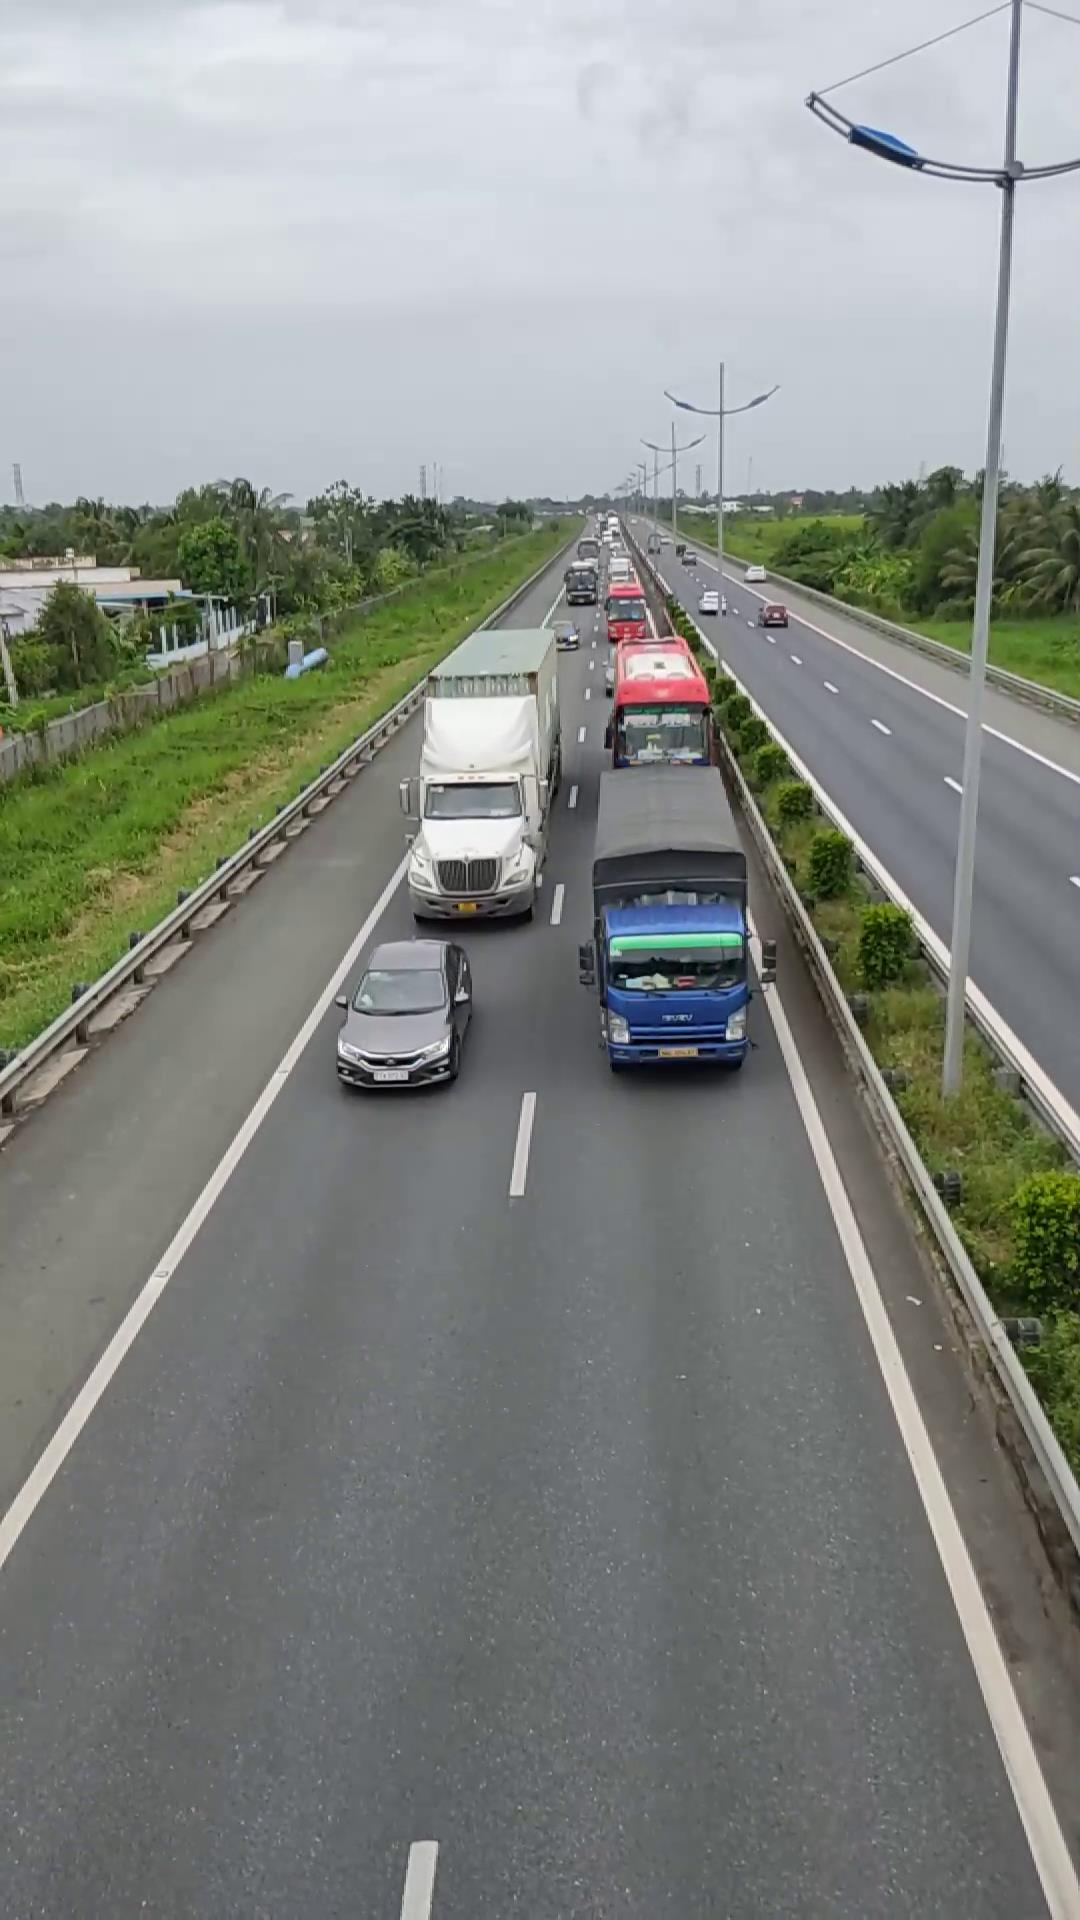car: (334, 935, 475, 1093)
container: (403, 623, 560, 925)
truck: (580, 763, 758, 1074)
